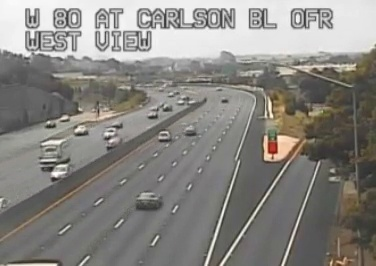car: (135, 192, 161, 208), (157, 131, 171, 141)
